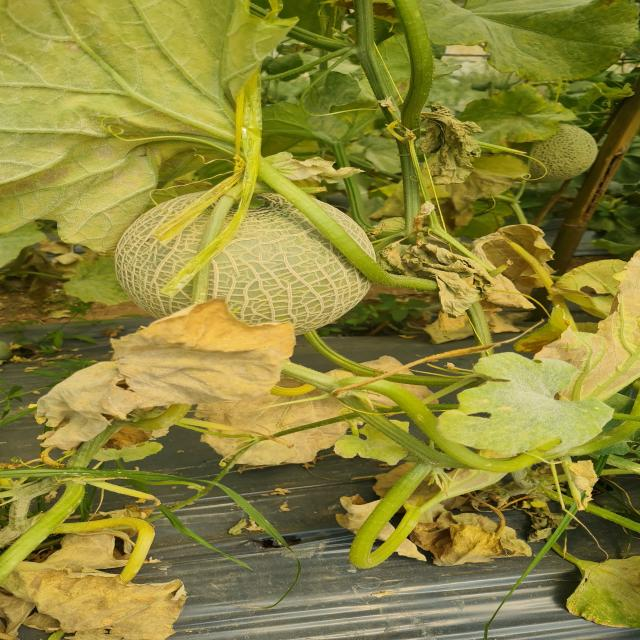melon: (207, 194, 371, 334), (116, 192, 209, 318), (318, 202, 376, 256)
